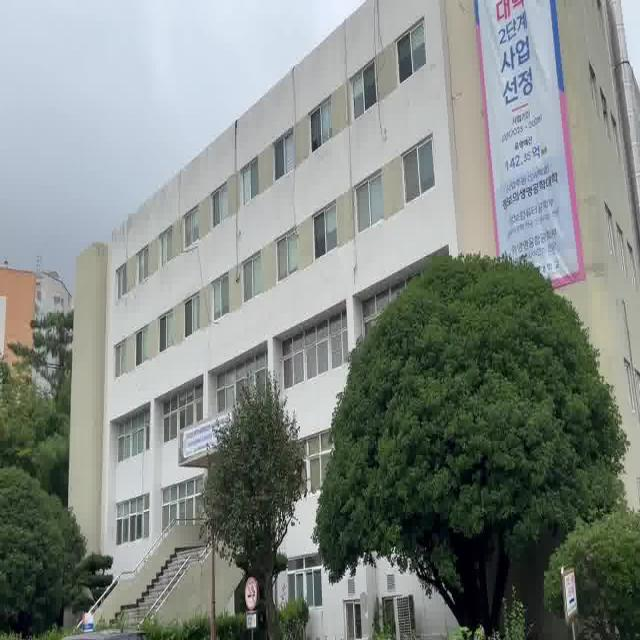building: (67, 63, 348, 419)
